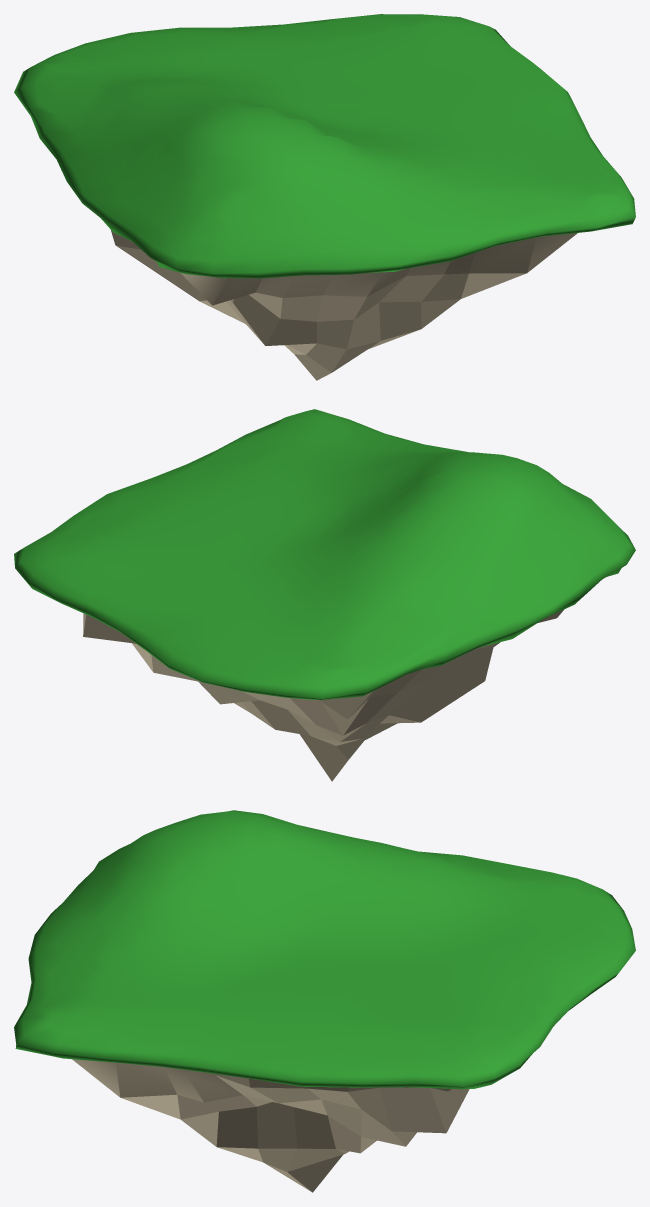
The model's file is SM_Island3.fbx.
3 renders of one model, top to bottom at view 1: azimuth 30°, elevation 25°; view 2: azimuth 150°, elevation 25°; view 3: azimuth 270°, elevation 25°, orthographic. The views are drawn at different scales.
Parts seen in each view (by area): view 1: SM_Island3; view 2: SM_Island3; view 3: SM_Island3.
Part boxes in pixels (<box>): SM_Island3: <box>14,14,635,380</box>; SM_Island3: <box>14,409,635,781</box>; SM_Island3: <box>14,810,635,1192</box>.
Size of the model in its own units: 40.95 by 25.43 by 45.32.
